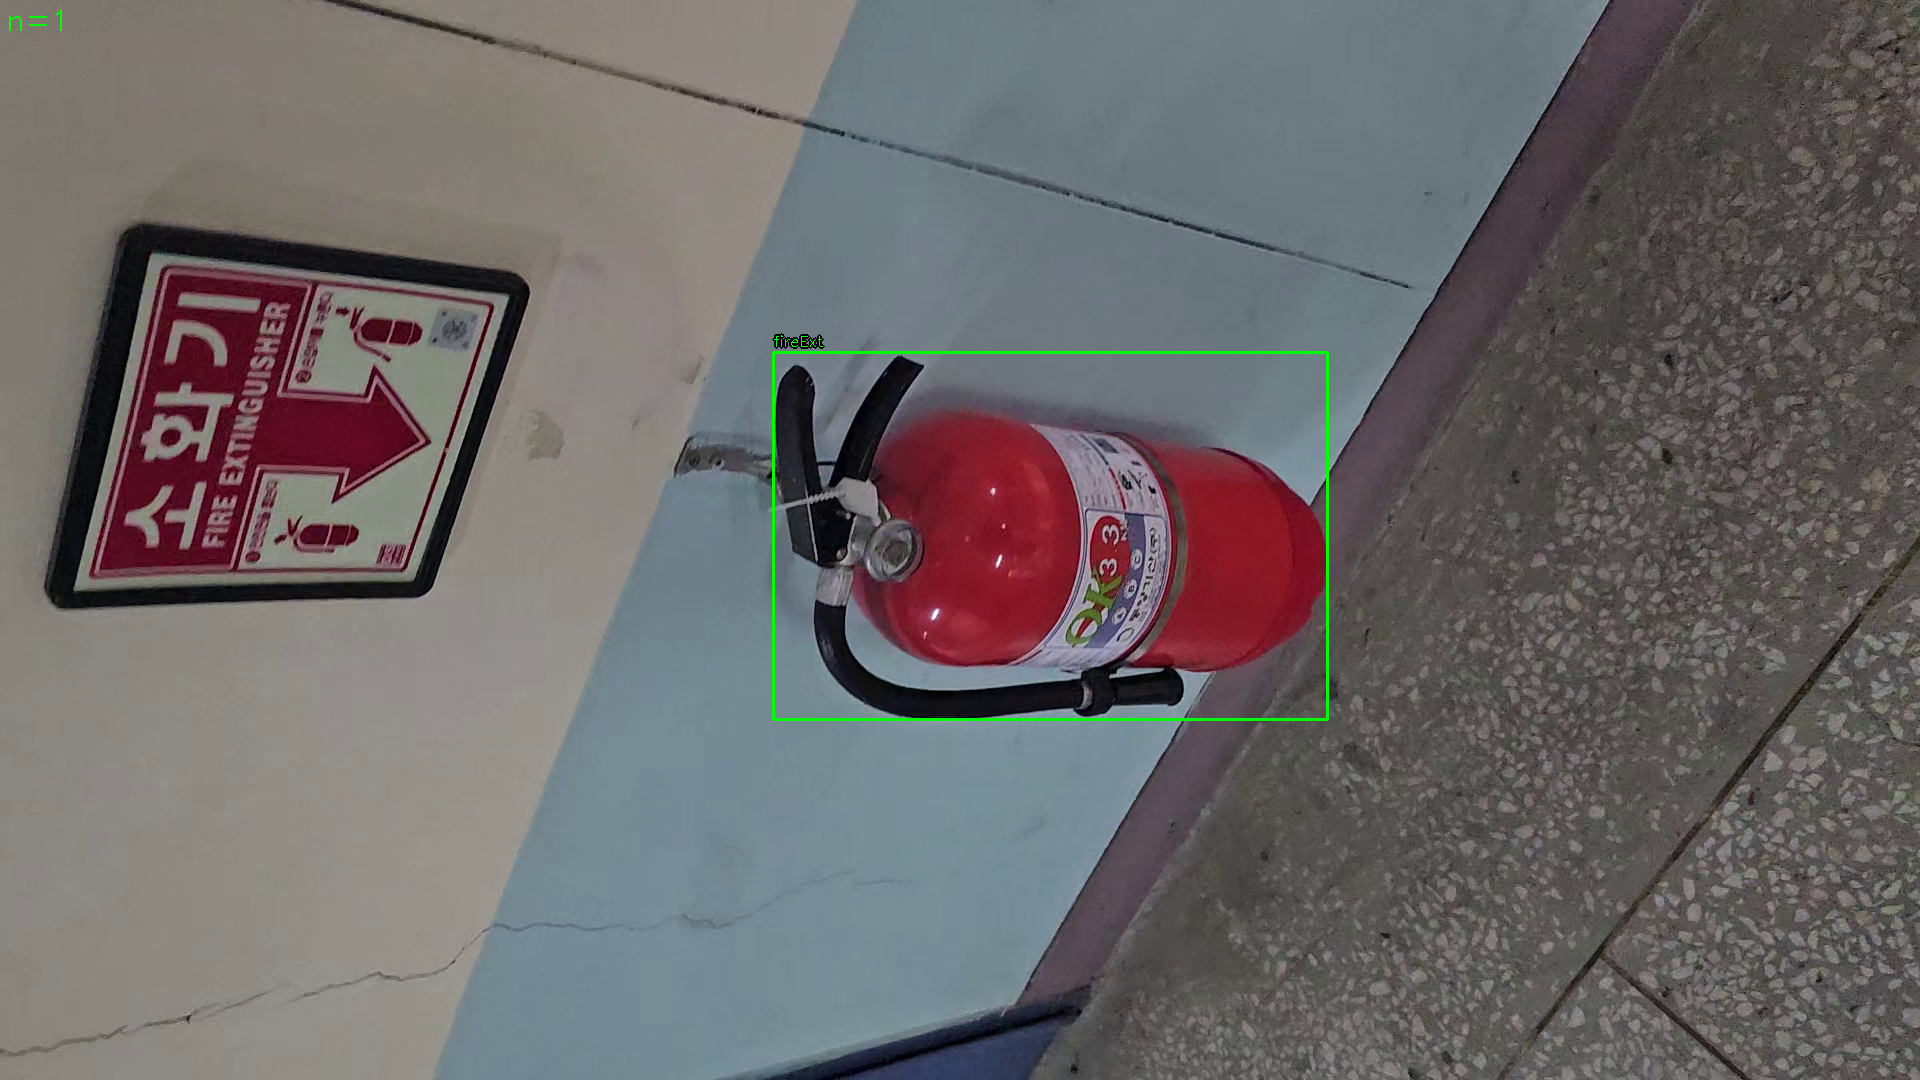lane: (773, 352, 1328, 720)
